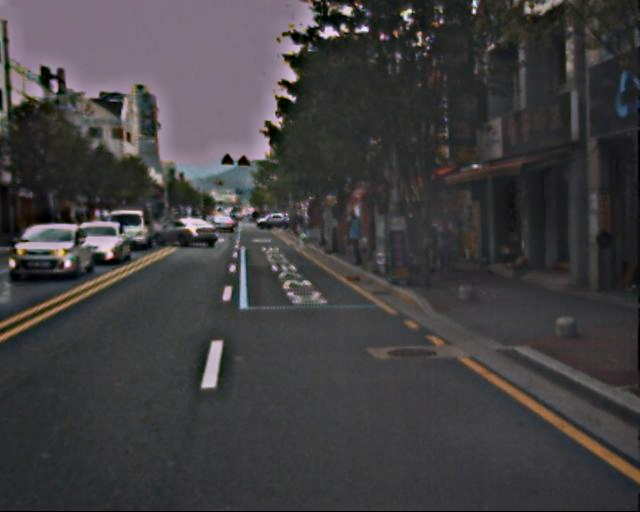person: (345, 212, 367, 265), (435, 222, 456, 274)
